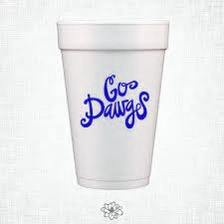paper_cup: (50, 13, 178, 193)
